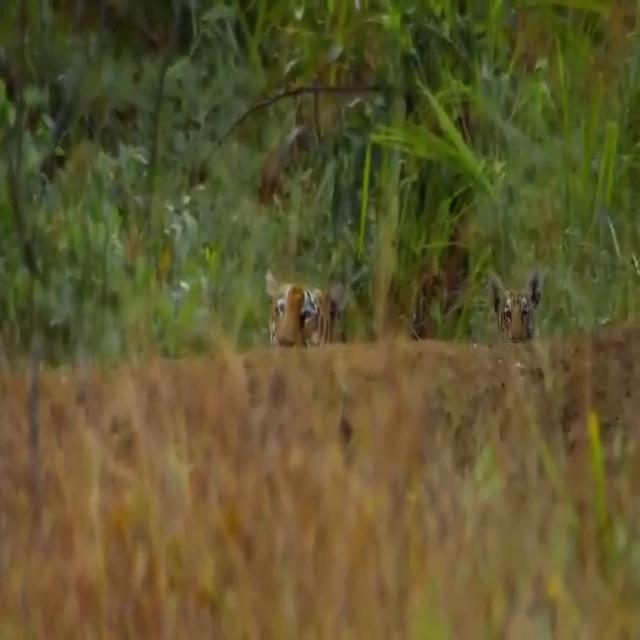tiger: (265, 262, 352, 352), (486, 272, 544, 346)
